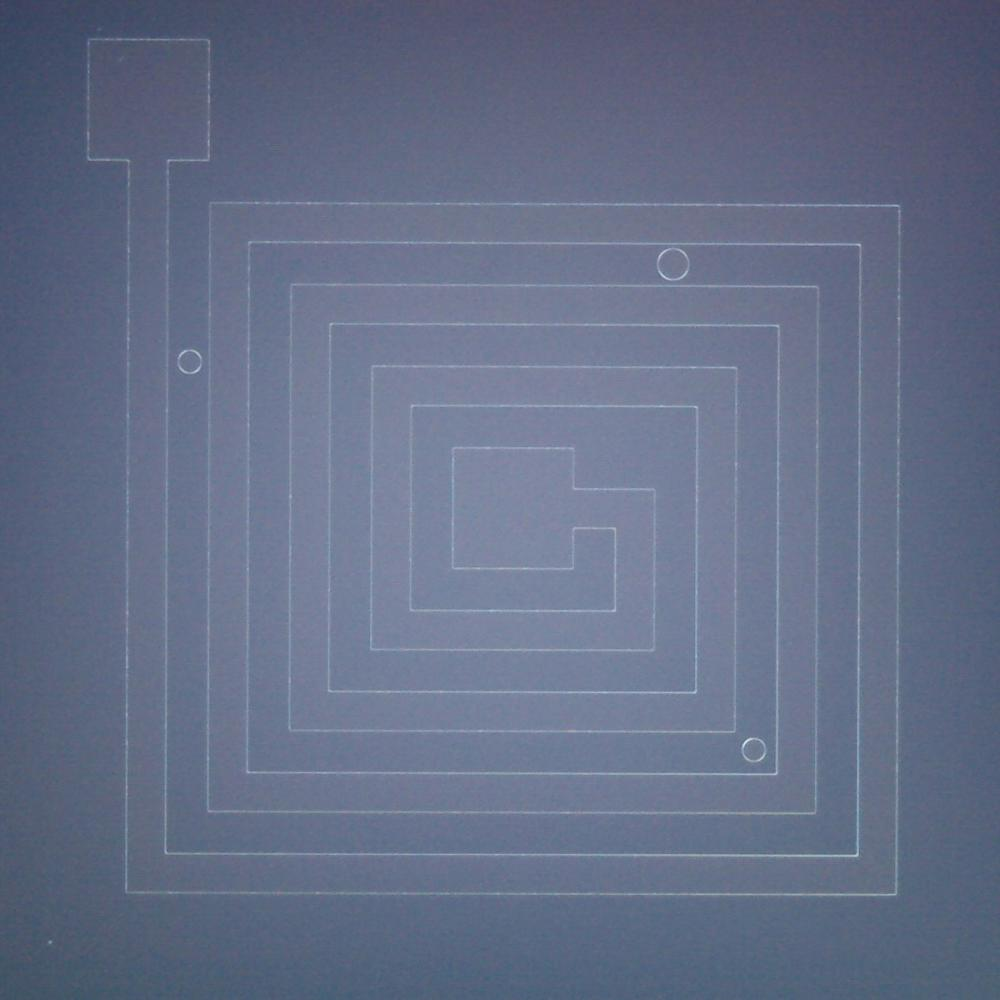dot: (48, 939, 54, 945)
